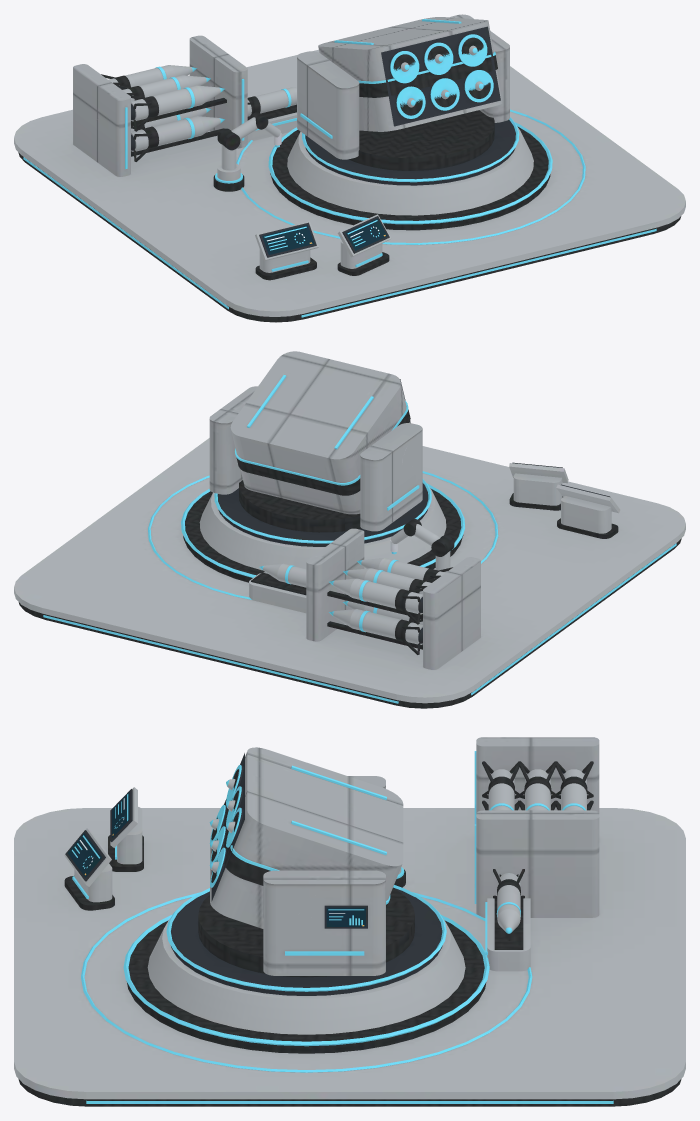
Rendered from enterprise_rocket_launcher.glb.
The picture shows the model from 3 angles, top to bottom: view 1: azimuth 30°, elevation 25°; view 2: azimuth 150°, elevation 25°; view 3: azimuth 270°, elevation 25°; orthographic projection. The views are drawn at different scales.
Parts seen in each view (by area): view 1: te_enterprise_rocket_launcher, move_scope; view 2: te_enterprise_rocket_launcher, move_scope; view 3: te_enterprise_rocket_launcher, move_scope.
Part boxes in pixels (x1,y1,x2,y2): te_enterprise_rocket_launcher: (14, 35, 685, 322); move_scope: (297, 14, 509, 170); te_enterprise_rocket_launcher: (14, 438, 685, 708); move_scope: (209, 351, 422, 532); te_enterprise_rocket_launcher: (14, 737, 685, 1106); move_scope: (198, 747, 414, 977).
Bounding box in the file's own units: 1.86 × 0.6498 × 1.86.
1 material, 1 textured.
